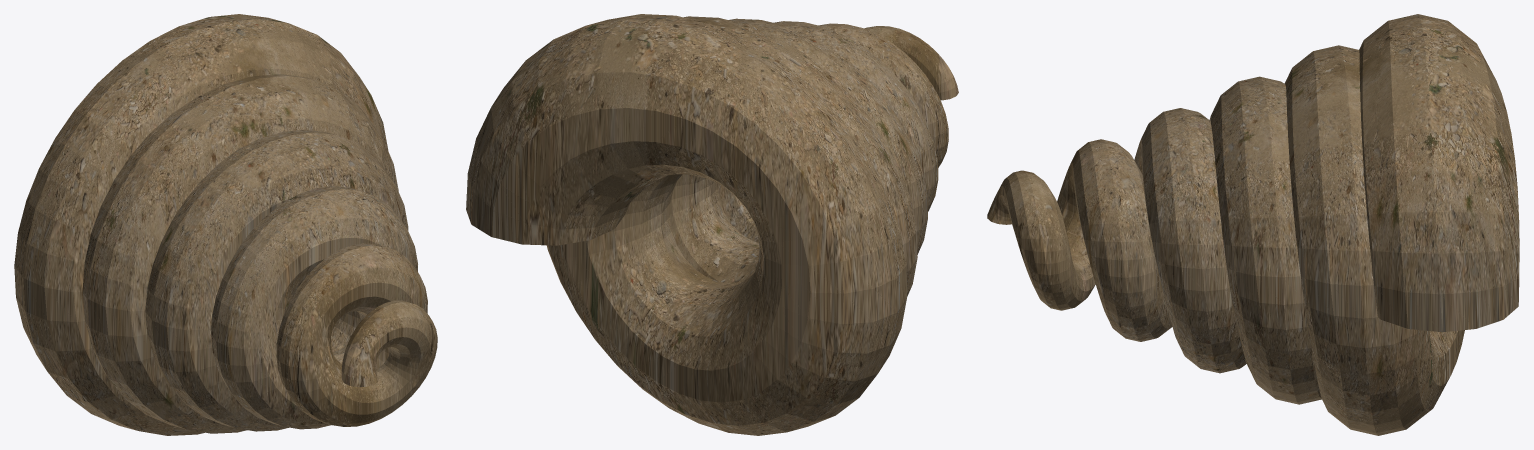
Rendered from shell_c.glb.
The picture shows the model from 3 angles, left to right: view 1: azimuth 30°, elevation 25°; view 2: azimuth 150°, elevation 25°; view 3: azimuth 270°, elevation 25°; orthographic projection. The views are drawn at different scales.
Visible parts, largest first — view 1: shell_c; view 2: shell_c; view 3: shell_c.
Boxes of the visible parts, x1,y1,x2,y2 form: shell_c: [14, 14, 437, 435]; shell_c: [466, 14, 958, 435]; shell_c: [987, 14, 1519, 435].
Bounding box in the file's own units: 0.0521 × 0.0504 × 0.0611.
1 material, 1 textured.
